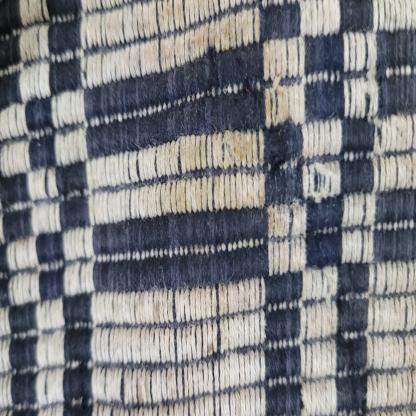spot: (153, 0, 304, 336)
